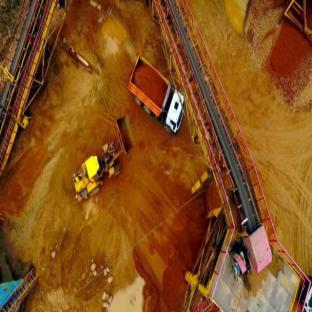Vehicle: (125, 66, 184, 136)
